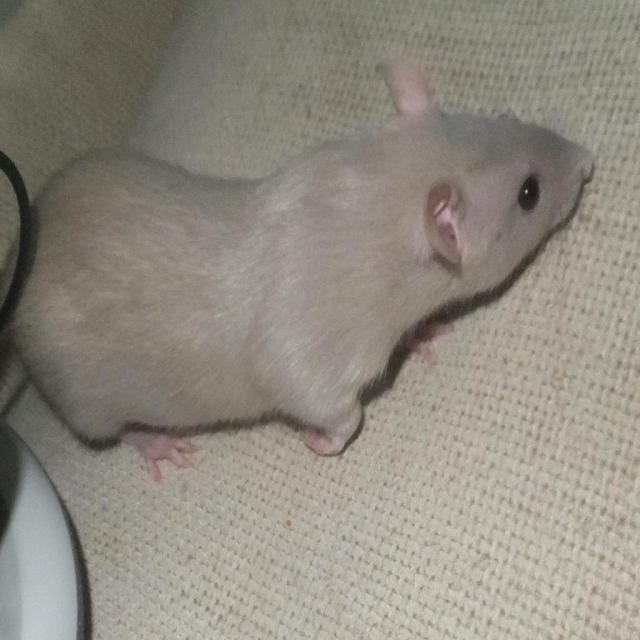rat: (1, 58, 597, 480)
